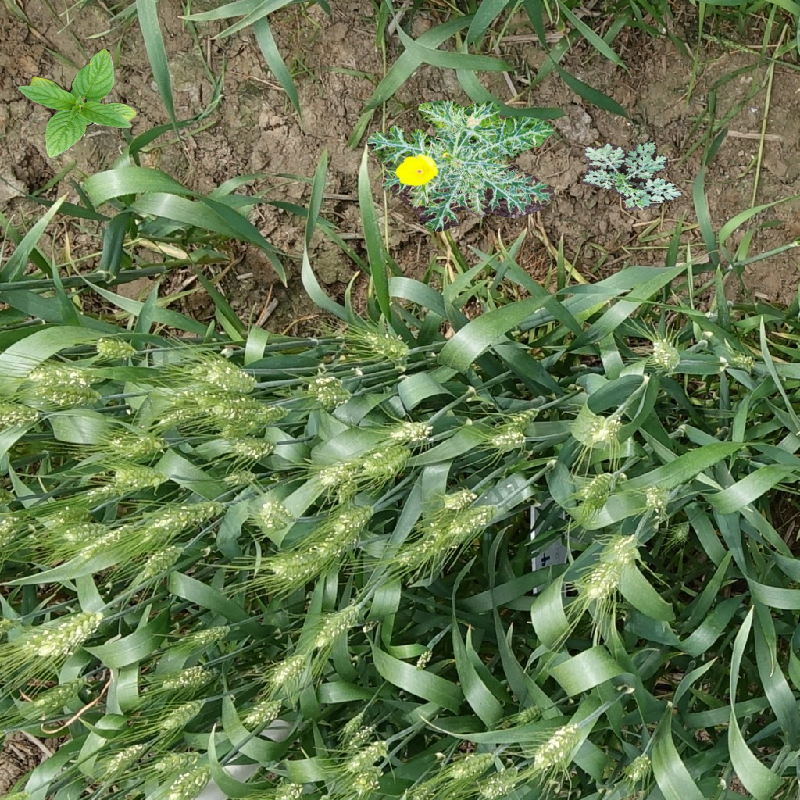spikelet: (582, 534, 638, 601), (28, 610, 103, 656), (145, 498, 220, 533), (313, 603, 364, 647), (533, 722, 580, 769), (199, 360, 257, 392), (489, 409, 535, 449), (271, 547, 326, 580), (80, 524, 133, 558), (395, 533, 445, 567), (364, 330, 410, 365), (362, 443, 410, 476), (711, 334, 756, 369), (101, 742, 146, 776), (27, 362, 88, 387), (159, 699, 206, 731), (167, 766, 211, 799), (308, 374, 350, 408), (447, 750, 496, 779), (447, 504, 491, 536), (42, 384, 103, 407), (142, 543, 183, 577), (159, 665, 212, 691), (36, 679, 80, 710), (578, 471, 620, 503), (211, 395, 267, 419), (346, 739, 389, 770), (578, 413, 619, 445), (110, 432, 162, 457), (332, 504, 374, 534), (478, 768, 518, 799), (156, 403, 204, 428), (257, 500, 294, 532), (269, 654, 307, 685), (112, 465, 163, 488), (243, 698, 283, 726), (153, 750, 200, 773), (650, 337, 680, 372), (1, 401, 40, 427), (390, 420, 432, 444), (230, 434, 272, 458), (62, 520, 107, 542), (344, 723, 376, 752), (319, 459, 354, 485), (188, 624, 230, 645), (95, 338, 136, 359), (489, 429, 527, 451), (623, 753, 652, 781), (353, 767, 383, 792), (443, 488, 476, 510), (269, 780, 305, 800), (1, 512, 21, 548), (643, 484, 669, 511), (513, 705, 543, 725), (667, 521, 690, 545), (223, 469, 257, 485)
weed: (367, 100, 556, 232), (18, 48, 137, 158), (582, 140, 683, 211)
